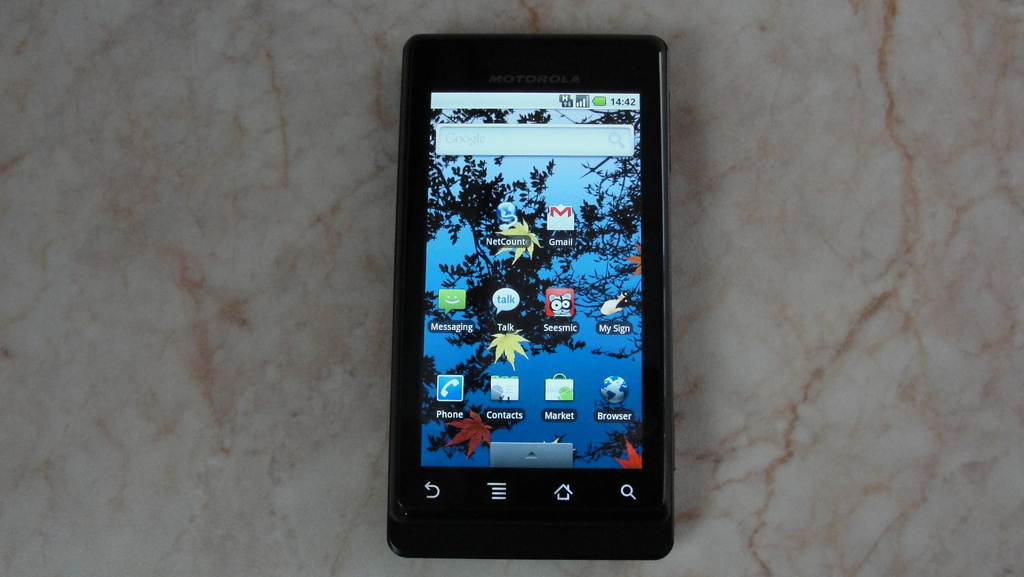mobile phone: (376, 17, 696, 544)
